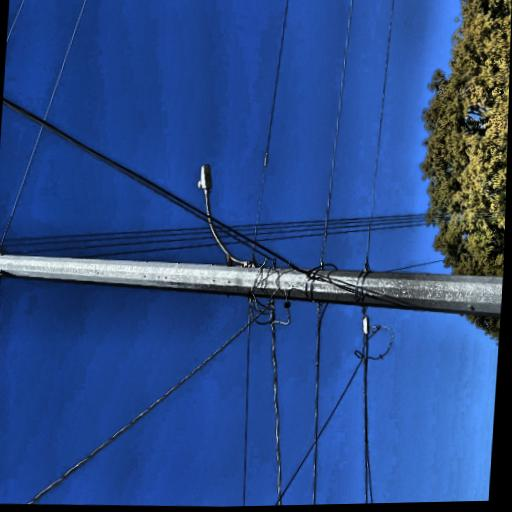pole: (22, 0, 148, 507)
street light: (91, 323, 199, 405)
